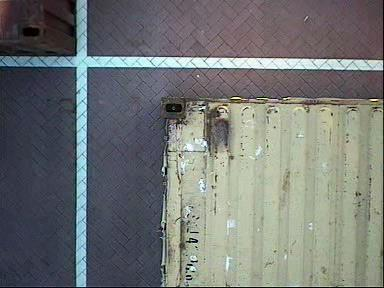groundmarker_2: (1, 164, 78, 219)
